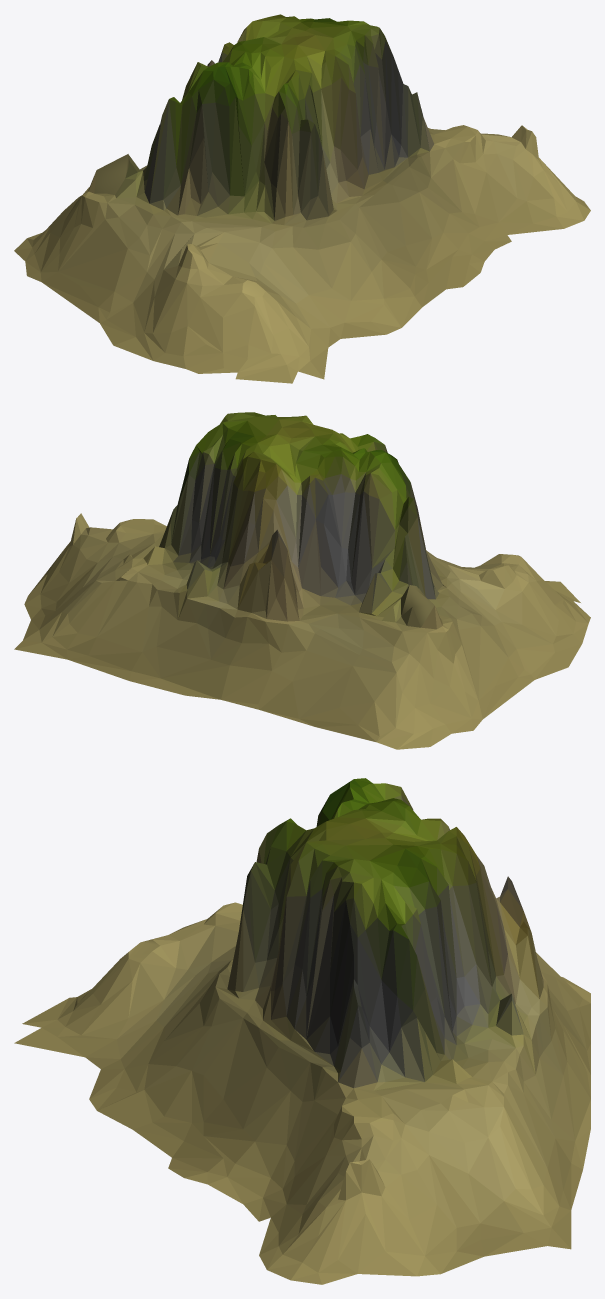
File: Cliffs_B.fbx
3 renders of one model, top to bottom at view 1: azimuth 30°, elevation 25°; view 2: azimuth 150°, elevation 25°; view 3: azimuth 270°, elevation 25°, orthographic. The views are drawn at different scales.
Parts seen in each view (by area): view 1: Cliffs_B; view 2: Cliffs_B; view 3: Cliffs_B.
Part boxes in pixels (bbox=[...]): Cliffs_B: bbox=[14, 14, 590, 383]; Cliffs_B: bbox=[14, 412, 590, 749]; Cliffs_B: bbox=[14, 778, 590, 1284].
Size of the model in its own units: 9600 by 3993 by 7300.
